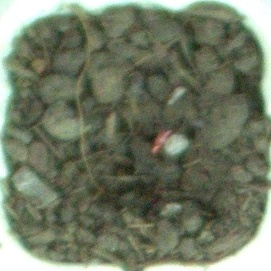chilli seed: (148, 126, 180, 157)
